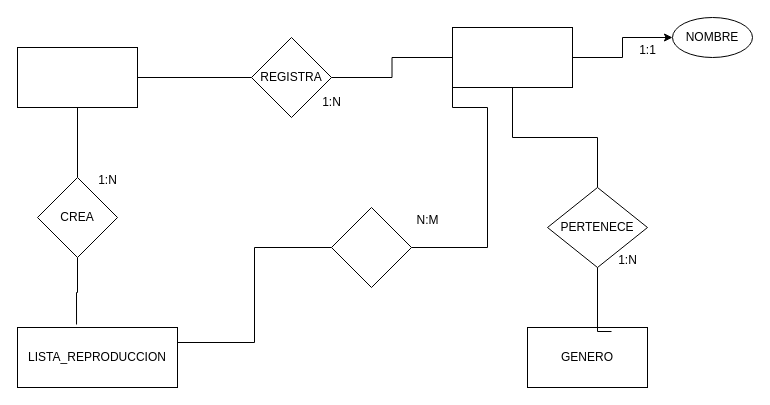
This 770x405 diagram has some shape labels left out. Here are the shapes that lost their labels. From the top down, the centre of each, then its label:
the point at 77,77: USUARIO
the point at 512,57: MUSICA
the point at 371,247: CONTIENE
